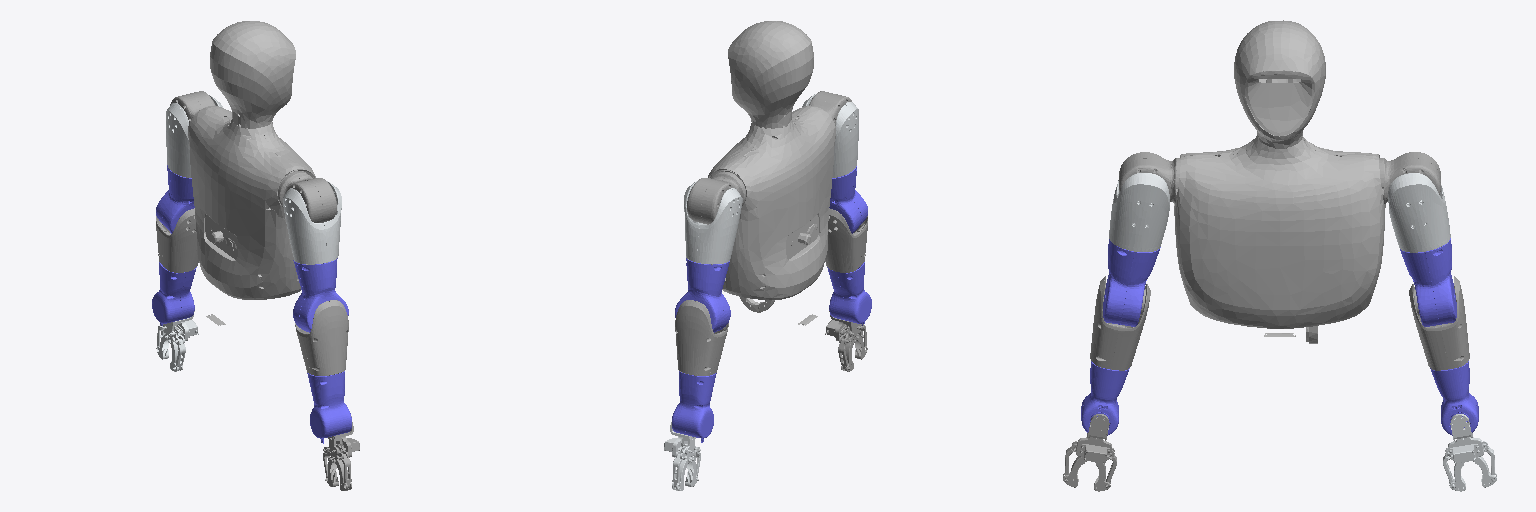
robot.urdf — SYSMO-32:
<?xml version="1.0" encoding="utf-8"?>
<!-- This URDF was automatically created by SolidWorks to URDF Exporter! Originally created by Stephen Brawner (brawner@gmail.com) 
     Commit Version: 1.6.0-4-g7f85cfe  Build Version: 1.6.7995.38578
     For more information, please see http://wiki.ros.org/sw_urdf_exporter -->
<robot
  name="SYSMO-32">
  <mujoco>
    <compiler meshdir="../meshes" discardvisual="false" />
  </mujoco>
  <link
    name="base_link">
    <inertial>
      <origin
        xyz="0.0144314214562501 -0.000347294821231768 0.261753604614404"
        rpy="0 0 0" />
      <mass
        value="15.0566884173139" />
      <inertia
        ixx="0.135073012328598"
        ixy="0.000117407750574321"
        ixz="3.88418765806531E-06"
        iyy="0.0474385623535262"
        iyz="-6.28403997828038E-05"
        izz="0.109707347323975" />
    </inertial>
    <visual>
      <origin
        xyz="0 0 0"
        rpy="0 0 0" />
      <geometry>
        <mesh
          filename="../meshes/base_link.STL" />
      </geometry>
      <material
        name="">
        <color
          rgba="0.752941176470588 0.752941176470588 0.752941176470588 1" />
      </material>
    </visual>
    <collision>
      <origin
        xyz="0 0 0"
        rpy="0 0 0" />
      <geometry>
        <mesh
          filename="../meshes/base_link.STL" />
      </geometry>
    </collision>
  </link>
  <link
    name="left_arm_J1_Link">
    <inertial>
      <origin
        xyz="-0.00532780604258385 0.0527665721828579 9.03811364818541E-05"
        rpy="0 0 0" />
      <mass
        value="0.938121874656346" />
      <inertia
        ixx="0.00130417583897302"
        ixy="6.66782465527277E-05"
        ixz="4.35297221553978E-07"
        iyy="0.00066407528349803"
        iyz="7.61220781217822E-08"
        izz="0.000843093636212102" />
    </inertial>
    <visual>
      <origin
        xyz="0 0 0"
        rpy="0 0 0" />
      <geometry>
        <mesh
          filename="../meshes/left_arm_J1_Link.STL" />
      </geometry>
      <material
        name="">
        <color
          rgba="0.698039215686274 0.698039215686274 0.698039215686274 1" />
      </material>
    </visual>
    <collision>
      <origin
        xyz="0 0 0"
        rpy="0 0 0" />
      <geometry>
        <mesh
          filename="../meshes/left_arm_J1_Link.STL" />
      </geometry>
    </collision>
  </link>
  <joint
    name="left_shoulder_pitch_joint"
    type="revolute">
    <origin
      xyz="0 0.186 0.3477"
      rpy="0 0 0" />
    <parent
      link="base_link" />
    <child
      link="left_arm_J1_Link" />
    <axis
      xyz="0 1 0" />
    <limit
      lower="-3.14"
      upper="3.14"
      effort="0"
      velocity="0" />
  </joint>
  <link
    name="left_arm_J2_Link">
    <inertial>
      <origin
        xyz="0.0210426276266833 0.0718154825473416 -0.000959311782347982"
        rpy="0 0 0" />
      <mass
        value="1.11378221777506" />
      <inertia
        ixx="0.00178100862385823"
        ixy="-0.000251874381263088"
        ixz="-9.26927643903565E-07"
        iyy="0.00124743105573476"
        iyz="-1.10361412091995E-05"
        izz="0.00159592706408981" />
    </inertial>
    <visual>
      <origin
        xyz="0 0 0"
        rpy="0 0 0" />
      <geometry>
        <mesh
          filename="../meshes/left_arm_J2_Link.STL" />
      </geometry>
      <material
        name="">
        <color
          rgba="0.898039215686275 0.917647058823529 0.929411764705882 1" />
      </material>
    </visual>
    <collision>
      <origin
        xyz="0 0 0"
        rpy="0 0 0" />
      <geometry>
        <mesh
          filename="../meshes/left_arm_J2_Link.STL" />
      </geometry>
    </collision>
  </link>
  <joint
    name="left_shoulder_roll_joint"
    type="revolute">         <!--******************************************-->
    <origin
      xyz="-0.02944 0.05815 0"
      rpy="-1.39 0 0" />
    <parent
      link="left_arm_J1_Link" />
    <child
      link="left_arm_J2_Link" />
    <axis
      xyz="1 0 0" />
    <limit
      lower="-0.099"         
      upper="2.8"
      effort="0"
      velocity="0" />     <!--***************lower has change***************************-->
  </joint>
  <link
    name="left_arm_J3_Link">
    <inertial>
      <origin
        xyz="3.10562518621984E-05 0.102342786099627 -0.00264247261177086"
        rpy="0 0 0" />
      <mass
        value="0.895195056569754" />
      <inertia
        ixx="0.000751567143229303"
        ixy="1.67276580501328E-07"
        ixz="3.17694318208595E-08"
        iyy="0.000541371587063331"
        iyz="2.43049230857758E-06"
        izz="0.00114037044272391" />
    </inertial>
    <visual>
      <origin
        xyz="0 0 0"
        rpy="0 0 0" />
      <geometry>
        <mesh
          filename="../meshes/left_arm_J3_Link.STL" />
      </geometry>
      <material
        name="">
        <color
          rgba="0.501960784313725 0.501960784313725 1 1" />
      </material>
    </visual>
    <collision>
      <origin
        xyz="0 0 0"
        rpy="0 0 0" />
      <geometry>
        <mesh
          filename="../meshes/left_arm_J3_Link.STL" />
      </geometry>
    </collision>
  </link>
  <joint
    name="left_shoulder_yaw_joint"
    type="revolute">
    <origin
      xyz="0.029436 0.123 0"
      rpy="0 0 0" />
    <parent
      link="left_arm_J2_Link" />
    <child
      link="left_arm_J3_Link" />
    <axis
      xyz="0 1 0" />
    <limit
      lower="-3.14"
      upper="3.14"
      effort="0"
      velocity="0" />
  </joint>
  <link
    name="left_arm_J4_Link">
    <inertial>
      <origin
        xyz="-7.02966239909263E-05 0.0756958680951756 0.0244574437134104"
        rpy="0 0 0" />
      <mass
        value="0.792511161573107" />
      <inertia
        ixx="0.0011136809359783"
        ixy="4.77904809199398E-07"
        ixz="5.46154413633147E-08"
        iyy="0.000649300178916576"
        iyz="-0.000187586449532863"
        izz="0.00128576875148252" />
    </inertial>
    <visual>
      <origin
        xyz="0 0 0"
        rpy="0 0 0" />
      <geometry>
        <mesh
          filename="../meshes/left_arm_J4_Link.STL" />
      </geometry>
      <material
        name="">
        <color
          rgba="0.698039215686274 0.698039215686274 0.698039215686274 1" />
      </material>
    </visual>
    <collision>
      <origin
        xyz="0 0 0"
        rpy="0 0 0" />
      <geometry>
        <mesh
          filename="../meshes/left_arm_J4_Link.STL" />
      </geometry>
    </collision>
  </link>
  <joint
    name="left_elbow_joint"
    type="revolute">
    <origin
      xyz="0 0.119 -0.03085"
      rpy="0 0 0" />
    <parent
      link="left_arm_J3_Link" />
    <child
      link="left_arm_J4_Link" />
    <axis
      xyz="0 0 1" />
    <limit
      lower="-1.57"
      upper="1.57"
      effort="0"
      velocity="0" />
  </joint>
  <link
    name="left_arm_J5_Link">
    <inertial>
      <origin
        xyz="1.47591957806343E-06 0.0996487266973138 0.00282004856418866"
        rpy="0 0 0" />
      <mass
        value="0.558974263793504" />
      <inertia
        ixx="0.000329529134240136"
        ixy="1.66595219592807E-08"
        ixz="-3.52523162590398E-08"
        iyy="0.000182880475350491"
        iyz="-6.95975069115441E-06"
        izz="0.000445067506878439" />
    </inertial>
    <visual>
      <origin
        xyz="0 0 0"
        rpy="0 0 0" />
      <geometry>
        <mesh
          filename="../meshes/left_arm_J5_Link.STL" />
      </geometry>
      <material
        name="">
        <color
          rgba="0.501960784313725 0.501960784313725 1 1" />
      </material>
    </visual>
    <collision>
      <origin
        xyz="0 0 0"
        rpy="0 0 0" />
      <geometry>
        <mesh
          filename="../meshes/left_arm_J5_Link.STL" />
      </geometry>
    </collision>
  </link>
  <!-- change zero -->
  <joint
    name="left_wrist_yaw_joint"
    type="revolute">
    <origin
      xyz="0 0.1225 0.03085"
      rpy="0 1.57 0" />
    <parent
      link="left_arm_J4_Link" />
    <child
      link="left_arm_J5_Link" />
    <axis
      xyz="0 1 0" />
    <limit
      lower="-3.14"
      upper="3.14"
      effort="0"
      velocity="0" />
  </joint>
  <link
    name="left_arm_J6_Link">
    <inertial>
      <origin
        xyz="0.000357579479259979 0.0718220206272152 -0.0135170051292183"
        rpy="0 0 0" />
      <mass
        value="0.238240539263785" />
      <inertia
        ixx="7.02278136051616E-05"
        ixy="2.92355214605289E-07"
        ixz="3.34399967487846E-07"
        iyy="4.05231874440088E-05"
        iyz="5.48549258727466E-06"
        izz="8.28101008919211E-05" />
    </inertial>
    <visual>
      <origin
        xyz="0 0 0"
        rpy="0 0 0" />
      <geometry>
        <mesh
          filename="../meshes/left_arm_J6_Link.STL" />
      </geometry>
      <material
        name="">
        <color
          rgba="0.898039215686275 0.917647058823529 0.929411764705882 1" />
      </material>
    </visual>
    <collision>
      <origin
        xyz="0 0 0"
        rpy="0 0 0" />
      <geometry>
        <mesh
          filename="../meshes/left_arm_J6_Link.STL" />
      </geometry>
    </collision>
  </link>
  <joint
    name="left_wrist_pitch_joint"
    type="revolute">
    <origin
      xyz="0 0.1155 0.0285"
      rpy="0 0 0" />
    <parent
      link="left_arm_J5_Link" />
    <child
      link="left_arm_J6_Link" />
    <axis
      xyz="0 0 1" />
    <limit
      lower="-1.57"
      upper="1.57"
      effort="0"
      velocity="0" />
  </joint>
  <link
    name="right_arm_J1_Link">
    <inertial>
      <origin
        xyz="-0.00532780528240282 -0.0527665690045425 -9.03785864807549E-05"
        rpy="0 0 0" />
      <mass
        value="0.938121977924767" />
      <inertia
        ixx="0.00130417600537895"
        ixy="-6.66782160691878E-05"
        ixz="-4.35275852440104E-07"
        iyy="0.000664075371966241"
        iyz="7.6045556517038E-08"
        izz="0.000843093761976948" />
    </inertial>
    <visual>
      <origin
        xyz="0 0 0"
        rpy="0 0 0" />
      <geometry>
        <mesh
          filename="../meshes/right_arm_J1_Link.STL" />
      </geometry>
      <material
        name="">
        <color
          rgba="0.698039215686274 0.698039215686274 0.698039215686274 1" />
      </material>
    </visual>
    <collision>
      <origin
        xyz="0 0 0"
        rpy="0 0 0" />
      <geometry>
        <mesh
          filename="../meshes/right_arm_J1_Link.STL" />
      </geometry>
    </collision>
  </link>
  <joint
    name="right_shoulder_pitch_joint"
    type="revolute">
    <origin
      xyz="0 -0.186 0.3477"
      rpy="0 0 0" />
    <parent
      link="base_link" />
    <child
      link="right_arm_J1_Link" />
    <axis
      xyz="0 1 0" />
    <limit
      lower="-3.14"
      upper="3.14"
      effort="0"
      velocity="0" />
  </joint>
  <link
    name="right_arm_J2_Link">
    <inertial>
      <origin
        xyz="0.0210426402698319 -0.0718155413204389 0.000959328637881007"
        rpy="0 0 0" />
      <mass
        value="1.11378131500261" />
      <inertia
        ixx="0.00178100603083542"
        ixy="0.00025187461747162"
        ixz="9.26578550934932E-07"
        iyy="0.00124743036513023"
        iyz="-1.10372835694144E-05"
        izz="0.00159592465491743" />
    </inertial>
    <visual>
      <origin
        xyz="0 0 0"
        rpy="0 0 0" />
      <geometry>
        <mesh
          filename="../meshes/right_arm_J2_Link.STL" />
      </geometry>
      <material
        name="">
        <color
          rgba="0.898039215686275 0.917647058823529 0.929411764705882 1" />
      </material>
    </visual>
    <collision>
      <origin
        xyz="0 0 0"
        rpy="0 0 0" />
      <geometry>
        <mesh
          filename="../meshes/right_arm_J2_Link.STL" />
      </geometry>
    </collision>
  </link>
  <joint
    name="right_shoulder_roll_joint"
    type="revolute">
    <origin
      xyz="-0.02944 -0.05815 0"
      rpy="1.39 0 0" />     <!--****************as this zero**********************-->
    <parent
      link="right_arm_J1_Link" />
    <child
      link="right_arm_J2_Link" />
    <axis
      xyz="1 0 0" />
    <limit
      lower="-2.8"
      upper="0.096"
      effort="0"
      velocity="0" /><!--***************upper has change***************************-->
  </joint>
  <link
    name="right_arm_J3_Link">
    <inertial>
      <origin
        xyz="-3.10506908105698E-05 -0.102342786859375 -0.00264247410616042"
        rpy="0 0 0" />
      <mass
        value="0.895195075678644" />
      <inertia
        ixx="0.00075156720704543"
        ixy="1.6733400907189E-07"
        ixz="-3.17717839403716E-08"
        iyy="0.000541371591112959"
        iyz="-2.43050728897345E-06"
        izz="0.00114037049902055" />
    </inertial>
    <visual>
      <origin
        xyz="0 0 0"
        rpy="0 0 0" />
      <geometry>
        <mesh
          filename="../meshes/right_arm_J3_Link.STL" />
      </geometry>
      <material
        name="">
        <color
          rgba="0.501960784313725 0.501960784313725 1 1" />
      </material>
    </visual>
    <collision>
      <origin
        xyz="0 0 0"
        rpy="0 0 0" />
      <geometry>
        <mesh
          filename="../meshes/right_arm_J3_Link.STL" />
      </geometry>
    </collision>
  </link>
  <joint
    name="right_shoulder_yaw_joint"
    type="revolute">
    <origin
      xyz="0.029436 -0.123 0"
      rpy="0 0 0" />
    <parent
      link="right_arm_J2_Link" />
    <child
      link="right_arm_J3_Link" />
    <axis
      xyz="0 1 0" />
    <limit
      lower="-3.14"
      upper="3.14"
      effort="0"
      velocity="0" />
  </joint>
  <link
    name="right_arm_J4_Link">
    <inertial>
      <origin
        xyz="7.04283074031366E-05 -0.075695738219139 0.0244575164432143"
        rpy="0 0 0" />
      <mass
        value="0.792505941931164" />
      <inertia
        ixx="0.00111366816963349"
        ixy="4.83892156512676E-07"
        ixz="-5.55157210383873E-08"
        iyy="0.000649296800204704"
        iyz="0.0001875848194355"
        izz="0.00128575341491872" />
    </inertial>
    <visual>
      <origin
        xyz="0 0 0"
        rpy="0 0 0" />
      <geometry>
        <mesh
          filename="../meshes/right_arm_J4_Link.STL" />
      </geometry>
      <material
        name="">
        <color
          rgba="0.698039215686274 0.698039215686274 0.698039215686274 1" />
      </material>
    </visual>
    <collision>
      <origin
        xyz="0 0 0"
        rpy="0 0 0" />
      <geometry>
        <mesh
          filename="../meshes/right_arm_J4_Link.STL" />
      </geometry>
    </collision>
  </link>
  <joint
    name="right_elbow_joint"
    type="revolute">
    <origin
      xyz="0 -0.119 -0.03085"
      rpy="0 0 0" />
    <parent
      link="right_arm_J3_Link" />
    <child
      link="right_arm_J4_Link" />
    <axis
      xyz="0 0 1" />
    <limit
      lower="-1.57"
      upper="1.57"
      effort="0"
      velocity="0" />
  </joint>
  <link
    name="right_arm_J5_Link">
    <inertial>
      <origin
        xyz="-1.47408944542678E-06 -0.0996487247068005 0.00282004759694815"
        rpy="0 0 0" />
      <mass
        value="0.55897429543658" />
      <inertia
        ixx="0.000329529135343447"
        ixy="1.66584451263776E-08"
        ixz="3.525188663893E-08"
        iyy="0.000182880493479853"
        iyz="6.95974966704163E-06"
        izz="0.0004450675299348" />
    </inertial>
    <visual>
      <origin
        xyz="0 0 0"
        rpy="0 0 0" />
      <geometry>
        <mesh
          filename="../meshes/right_arm_J5_Link.STL" />
      </geometry>
      <material
        name="">
        <color
          rgba="0.501960784313725 0.501960784313725 1 1" />
      </material>
    </visual>
    <collision>
      <origin
        xyz="0 0 0"
        rpy="0 0 0" />
      <geometry>
        <mesh
          filename="../meshes/right_arm_J5_Link.STL" />
      </geometry>
    </collision>
  </link>
  <!-- change zero -->
  <joint
    name="right_wrist_yaw_joint"
    type="revolute">
    <origin
      xyz="0 -0.1225 0.03085"
      rpy="0 1.57 0" />
    <parent
      link="right_arm_J4_Link" />
    <child
      link="right_arm_J5_Link" />
    <axis
      xyz="0 1 0" />
    <limit
      lower="-3.14"
      upper="3.14"
      effort="0"
      velocity="0" />
  </joint>
  <link
    name="right_arm_J6_Link">
    <inertial>
      <origin
        xyz="0.000357579961051549 -0.0718220160081413 -0.0135170042442506"
        rpy="0 0 0" />
      <mass
        value="0.238240532638385" />
      <inertia
        ixx="7.02278112005588E-05"
        ixy="-2.92356896378528E-07"
        ixz="3.34400671945958E-07"
        iyy="4.05231857683007E-05"
        iyz="-5.48549280923932E-06"
        izz="8.28100994168077E-05" />
    </inertial>
    <visual>
      <origin
        xyz="0 0 0"
        rpy="0 0 0" />
      <geometry>
        <mesh
          filename="../meshes/right_arm_J6_Link.STL" />
      </geometry>
      <material
        name="">
        <color
          rgba="0.698039215686274 0.698039215686274 0.698039215686274 1" />
      </material>
    </visual>
    <collision>
      <origin
        xyz="0 0 0"
        rpy="0 0 0" />
      <geometry>
        <mesh
          filename="../meshes/right_arm_J6_Link.STL" />
      </geometry>
    </collision>
  </link>
  <joint
    name="right_wrist_pitch_joint"
    type="revolute">
    <origin
      xyz="0 -0.1155 0.0285"
      rpy="0 0 0" />
    <parent
      link="right_arm_J5_Link" />
    <child
      link="right_arm_J6_Link" />
    <axis
      xyz="0 0 1" />
    <limit
      lower="-1.57"
      upper="1.57"
      effort="0"
      velocity="0" />
  </joint>
</robot>

--- Facts derived from the render (not from the file) ---
3 views of the same robot in one strip: view 1: azimuth 30°, elevation 25°; view 2: azimuth 150°, elevation 25°; view 3: azimuth 270°, elevation 25° (orthographic).
Robot: SYSMO-32 — 13 links, 12 joints (12 revolute); root link base_link; default pose: all joints at 0.
Visible links, largest first — view 1: base_link, right_arm_J4_Link, right_arm_J2_Link, right_arm_J5_Link, right_arm_J3_Link, left_arm_J4_Link, left_arm_J5_Link, right_arm_J1_Link, left_arm_J2_Link, right_arm_J6_Link, left_arm_J3_Link, left_arm_J6_Link (+1 smaller); view 2: base_link, left_arm_J4_Link, left_arm_J2_Link, left_arm_J5_Link, left_arm_J3_Link, right_arm_J4_Link, right_arm_J5_Link, left_arm_J1_Link, right_arm_J2_Link, left_arm_J6_Link, right_arm_J3_Link, right_arm_J6_Link (+1 smaller); view 3: base_link, right_arm_J2_Link, left_arm_J2_Link, left_arm_J3_Link, right_arm_J3_Link, left_arm_J4_Link, right_arm_J4_Link, right_arm_J6_Link, left_arm_J6_Link, left_arm_J5_Link, right_arm_J5_Link, left_arm_J1_Link (+1 smaller).
Boxes of the visible links, x1,y1,x2,y2 form: base_link: (188,21,315,325); right_arm_J4_Link: (295,300,348,375); right_arm_J2_Link: (283,181,341,264); right_arm_J5_Link: (307,371,351,443); right_arm_J3_Link: (293,258,348,332); left_arm_J4_Link: (156,208,198,272); left_arm_J5_Link: (152,262,196,325); right_arm_J1_Link: (278,171,336,222); left_arm_J2_Link: (166,95,222,177); right_arm_J6_Link: (323,416,359,490); left_arm_J3_Link: (156,165,194,233); left_arm_J6_Link: (156,299,198,371); base_link: (708,21,835,325); left_arm_J4_Link: (675,300,728,375); left_arm_J2_Link: (684,181,742,264); left_arm_J5_Link: (672,371,716,442); left_arm_J3_Link: (675,258,730,332); right_arm_J4_Link: (825,208,867,272); right_arm_J5_Link: (827,262,871,325); left_arm_J1_Link: (687,171,745,224); right_arm_J2_Link: (802,94,858,177); left_arm_J6_Link: (664,422,700,490); right_arm_J3_Link: (829,166,867,233); right_arm_J6_Link: (825,299,867,371); base_link: (1174,20,1385,343); right_arm_J2_Link: (1109,173,1169,251); left_arm_J2_Link: (1388,173,1450,252); left_arm_J3_Link: (1400,238,1456,326); right_arm_J3_Link: (1103,239,1160,326); left_arm_J4_Link: (1409,276,1469,370); right_arm_J4_Link: (1090,276,1150,370); right_arm_J6_Link: (1063,414,1116,491); left_arm_J6_Link: (1443,414,1496,491); left_arm_J5_Link: (1430,361,1478,435); right_arm_J5_Link: (1081,361,1129,435); left_arm_J1_Link: (1379,152,1440,203).
Size in the robot's own frame: 0.1971 by 0.7974 by 0.9348 metres.
13 mesh visuals loaded from 13 distinct referenced files (13 binary STL).
